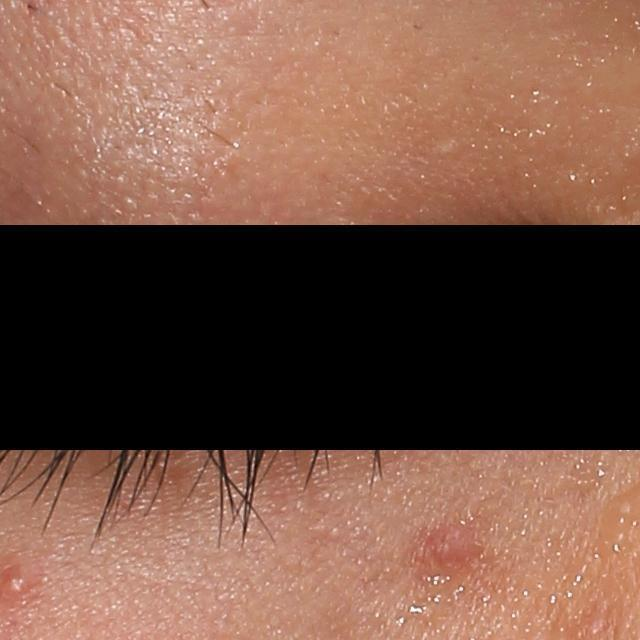papule: (416, 529, 463, 571)
